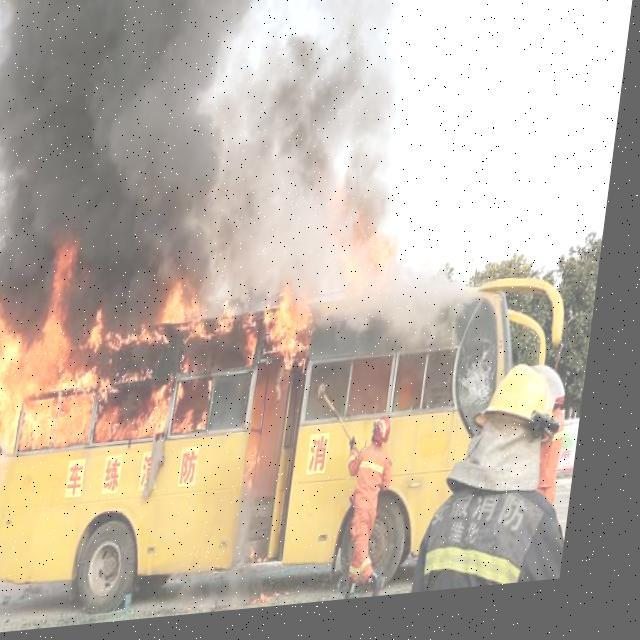Fire: (0, 193, 338, 472), (328, 178, 413, 306)
